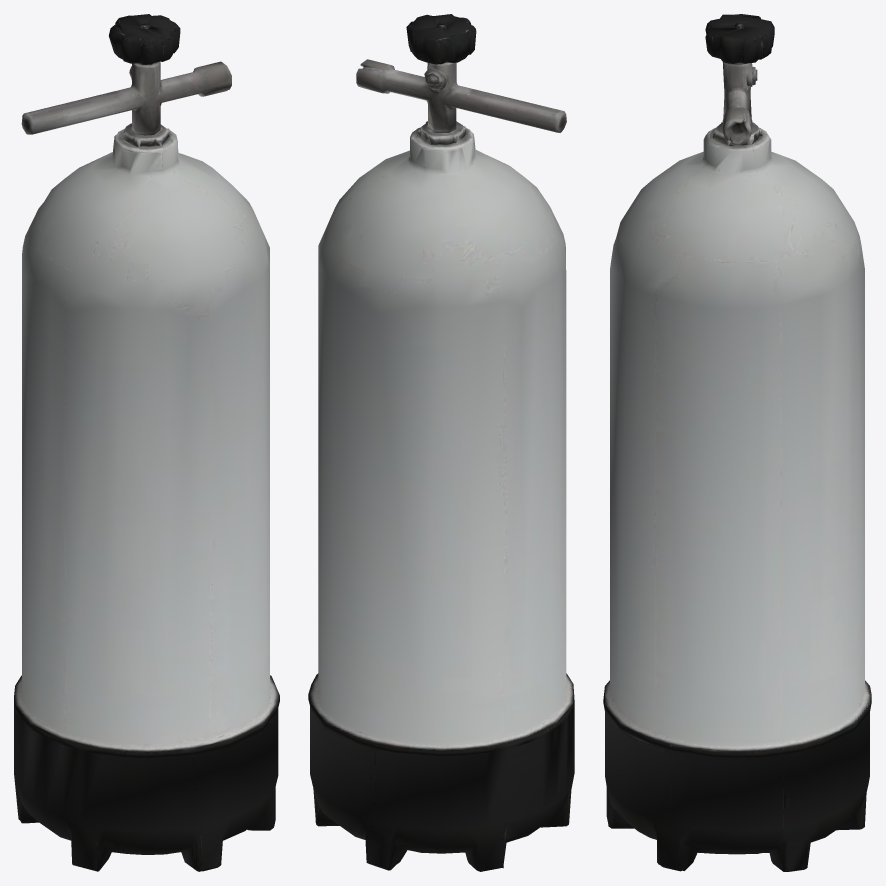
File: fles.glb
3 renders of one model, left to right at view 1: azimuth 30°, elevation 25°; view 2: azimuth 150°, elevation 25°; view 3: azimuth 270°, elevation 25°, orthographic.
Parts seen in each view (by area): view 1: tripo_node_74d95572-1bf3-4bec-8cdb-6169de173659; view 2: tripo_node_74d95572-1bf3-4bec-8cdb-6169de173659; view 3: tripo_node_74d95572-1bf3-4bec-8cdb-6169de173659.
Boxes of the visible parts, x1=… form: tripo_node_74d95572-1bf3-4bec-8cdb-6169de173659: x1=14, y1=14, x2=279, y2=871; tripo_node_74d95572-1bf3-4bec-8cdb-6169de173659: x1=308, y1=14, x2=574, y2=871; tripo_node_74d95572-1bf3-4bec-8cdb-6169de173659: x1=603, y1=14, x2=871, y2=871.
Bounding box in the file's own units: 0.2612 × 0.85 × 0.2578.
1 material, 1 textured.
